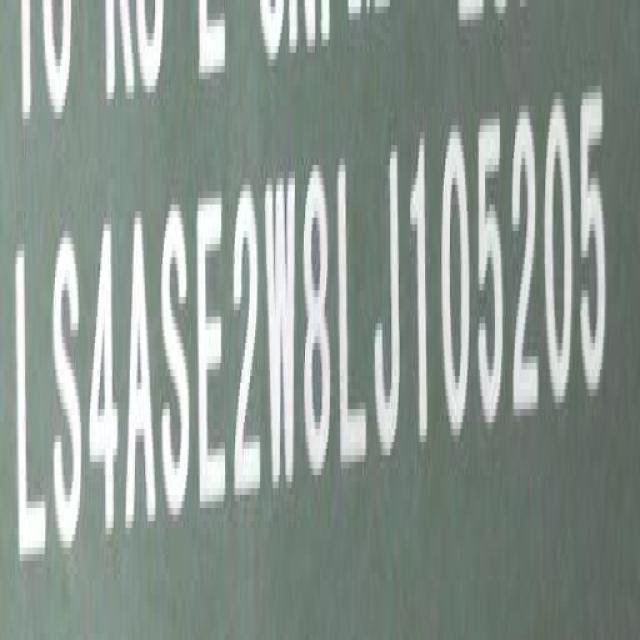0: (439, 115, 472, 445), (543, 96, 572, 410)
1: (406, 120, 429, 447)
2: (226, 176, 265, 503), (509, 103, 542, 413)
4: (87, 220, 122, 542)
5: (474, 110, 510, 432), (578, 83, 609, 398)
8: (300, 149, 334, 494)
A: (122, 193, 160, 538)
E: (192, 181, 226, 513)
J: (374, 144, 404, 464)
L: (331, 156, 369, 482), (11, 228, 47, 564)
S: (51, 225, 87, 562), (160, 191, 191, 530)
W: (261, 162, 300, 504)
